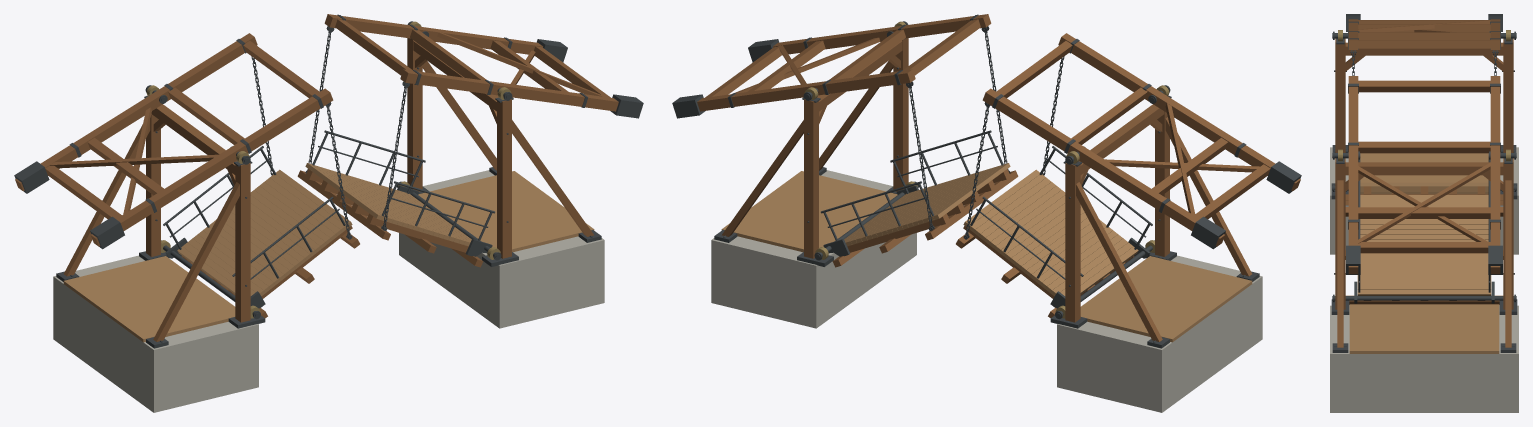
3 renders of one model, left to right at view 1: azimuth 30°, elevation 25°; view 2: azimuth 150°, elevation 25°; view 3: azimuth 270°, elevation 25°, orthographic. The views are drawn at different scales.
Visible parts, largest first — view 1: West_Abutment_export, East_Abutment_export, West_Landing_export, East_Landing_export, West_Near_BalanceBeam_export, West_Far_BalanceBeam_export, East_Far_BalanceBeam_export, West_Near_Portal_export, East_Far_Portal_export, East_Near_BalanceBeam_export, East_Near_Portal_export, West_Near_BackBrace_export (+28 smaller); view 2: West_Abutment_export, East_Abutment_export, West_Landing_export, East_Landing_export, West_Far_BalanceBeam_export, West_Near_BalanceBeam_export, East_Near_BalanceBeam_export, West_Far_Portal_export, East_Far_BalanceBeam_export, East_Near_Portal_export, East_Far_Portal_export, West_Far_BackBrace_export (+28 smaller); view 3: East_Abutment_export, East_Landing_export, West_Landing_export, East_Near_BalanceBeam_export, East_Far_BalanceBeam_export, East_PortalCrossbar_export, East_UpperCross0.35_export, East_UpperCross3.0_export, East_UpperCross-4.0_export, East_UpperCross-2.5_export, West_Abutment_export, West_PortalCrossbar_export (+37 smaller).
Boxes of the visible parts, <box> form: West_Abutment_export: <box>53,255,258,412</box>; East_Abutment_export: <box>399,170,604,328</box>; West_Landing_export: <box>63,256,235,342</box>; East_Landing_export: <box>418,171,594,252</box>; West_Near_BalanceBeam_export: <box>91,88,333,246</box>; West_Far_BalanceBeam_export: <box>15,33,257,191</box>; East_Far_BalanceBeam_export: <box>400,69,618,111</box>; West_Near_Portal_export: <box>235,161,250,322</box>; East_Far_Portal_export: <box>497,97,511,258</box>; East_Near_BalanceBeam_export: <box>324,14,542,54</box>; East_Near_Portal_export: <box>407,38,422,191</box>; West_Near_BackBrace_export: <box>153,182,239,341</box>; West_Abutment_export: <box>1057,255,1262,412</box>; East_Abutment_export: <box>711,170,916,328</box>; West_Landing_export: <box>1080,256,1252,342</box>; East_Landing_export: <box>721,171,897,252</box>; West_Far_BalanceBeam_export: <box>982,88,1224,246</box>; West_Near_BalanceBeam_export: <box>1058,33,1300,191</box>; East_Near_BalanceBeam_export: <box>697,69,915,111</box>; West_Far_Portal_export: <box>1065,161,1080,322</box>; East_Far_BalanceBeam_export: <box>773,14,991,54</box>; East_Near_Portal_export: <box>804,97,818,258</box>; East_Far_Portal_export: <box>893,38,908,191</box>; West_Far_BackBrace_export: <box>1076,182,1162,341</box>; East_Abutment_export: <box>1330,305,1518,412</box>; East_Landing_export: <box>1349,304,1499,353</box>; West_Landing_export: <box>1360,153,1488,194</box>; East_Near_BalanceBeam_export: <box>1490,76,1500,274</box>; East_Far_BalanceBeam_export: <box>1348,76,1358,274</box>; East_PortalCrossbar_export: <box>1345,162,1503,175</box>; East_UpperCross0.35_export: <box>1358,141,1490,153</box>; East_UpperCross3.0_export: <box>1358,80,1490,92</box>; East_UpperCross-4.0_export: <box>1358,242,1490,253</box>; East_UpperCross-2.5_export: <box>1358,207,1490,218</box>; West_Abutment_export: <box>1330,147,1518,254</box>; West_PortalCrossbar_export: <box>1345,42,1503,55</box>.
Size of the model in its own units: 18.2 by 8.52 by 5.8.
